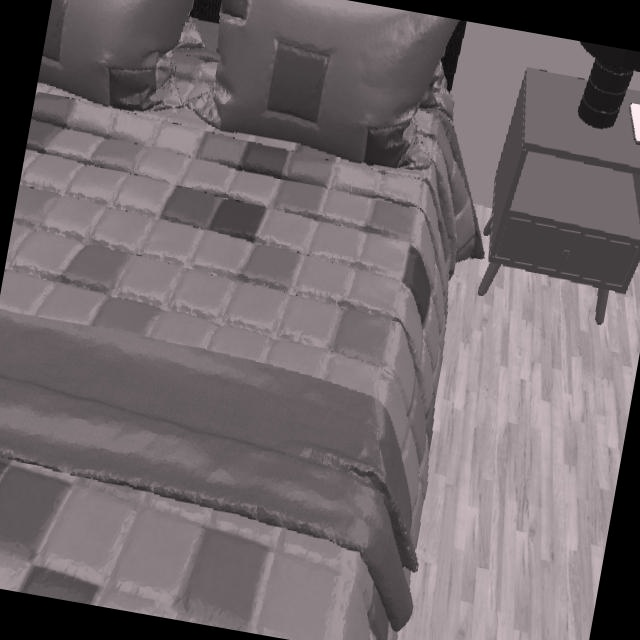lamp: (576, 40, 640, 129)
nighttable: (482, 60, 640, 295)
pillow: (217, 0, 371, 158), (37, 0, 196, 105)
